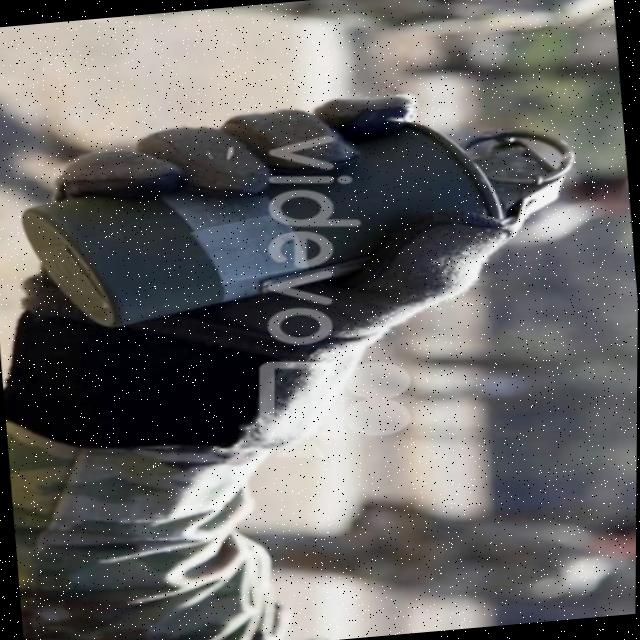grenade: (5, 56, 596, 374)
